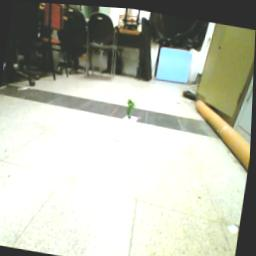herb: (125, 97, 138, 118)
